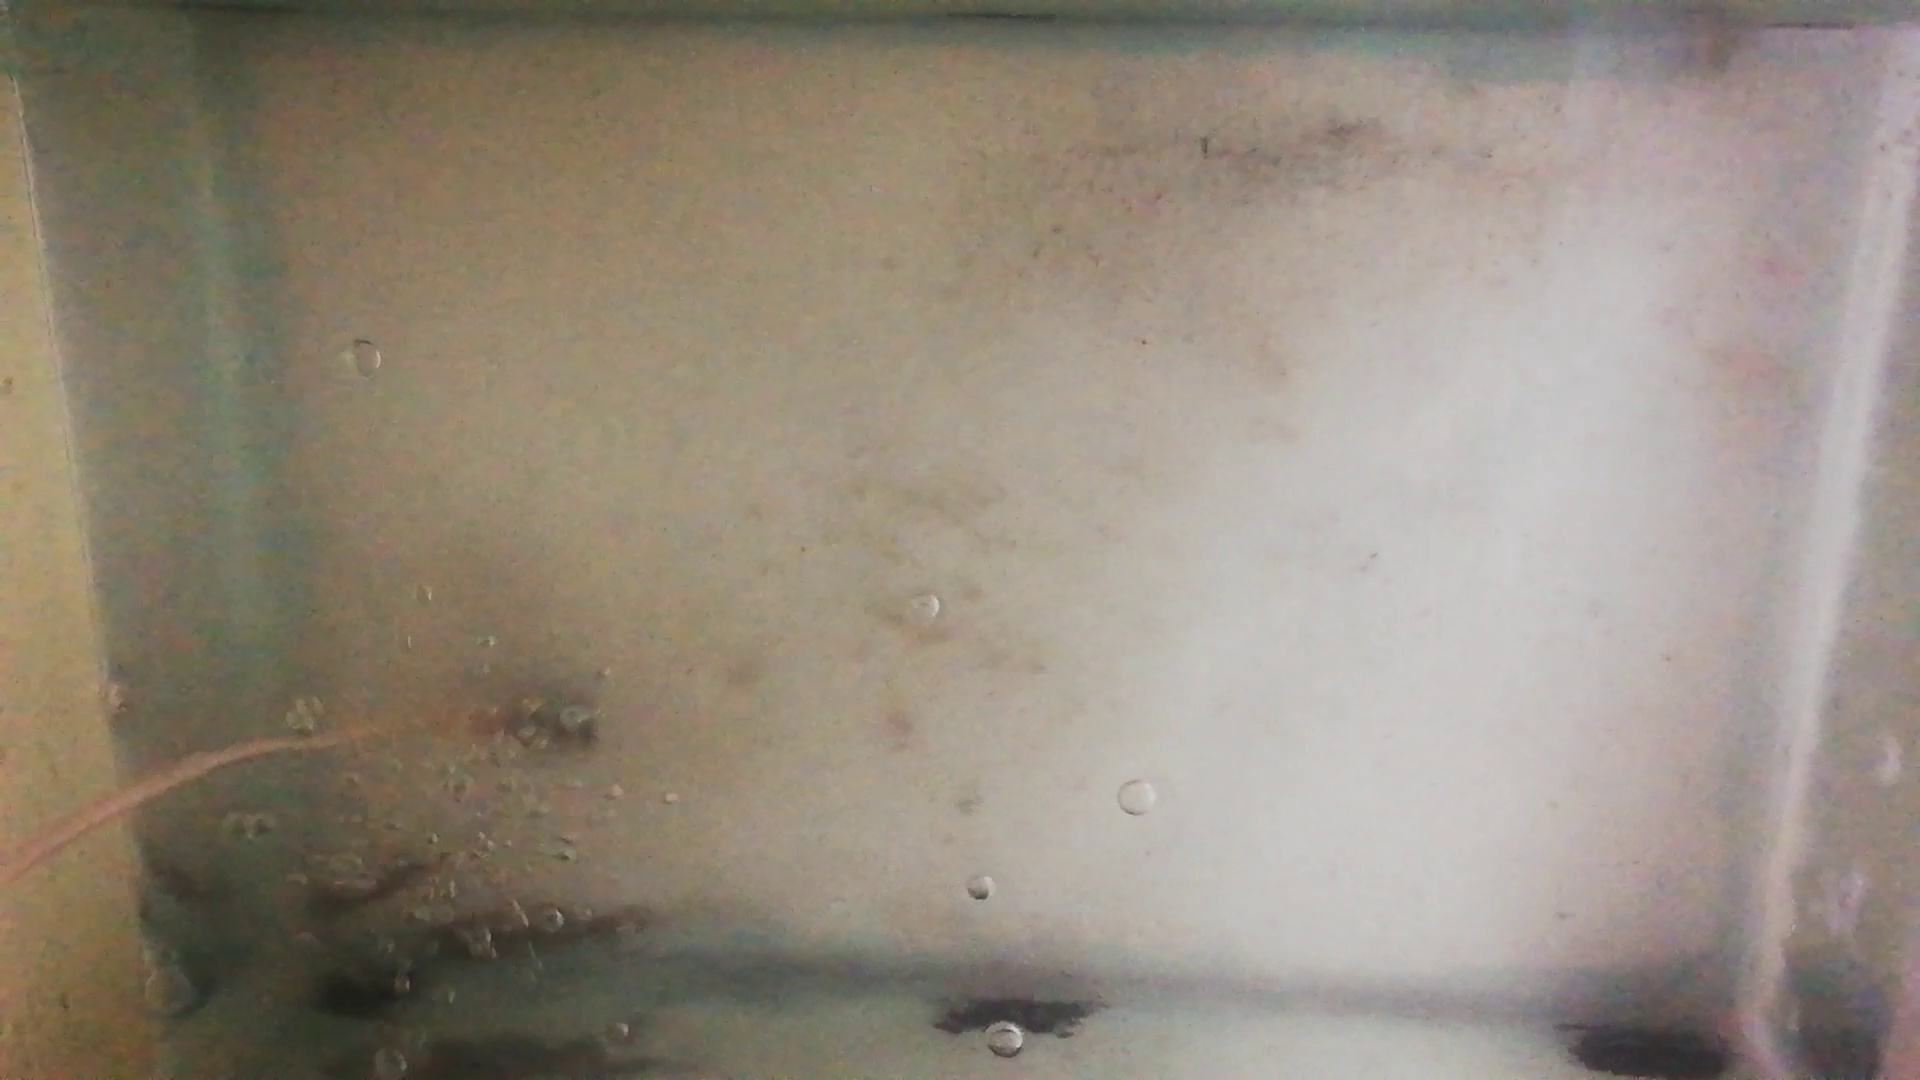fish: (429, 907, 640, 965), (301, 851, 446, 928)
